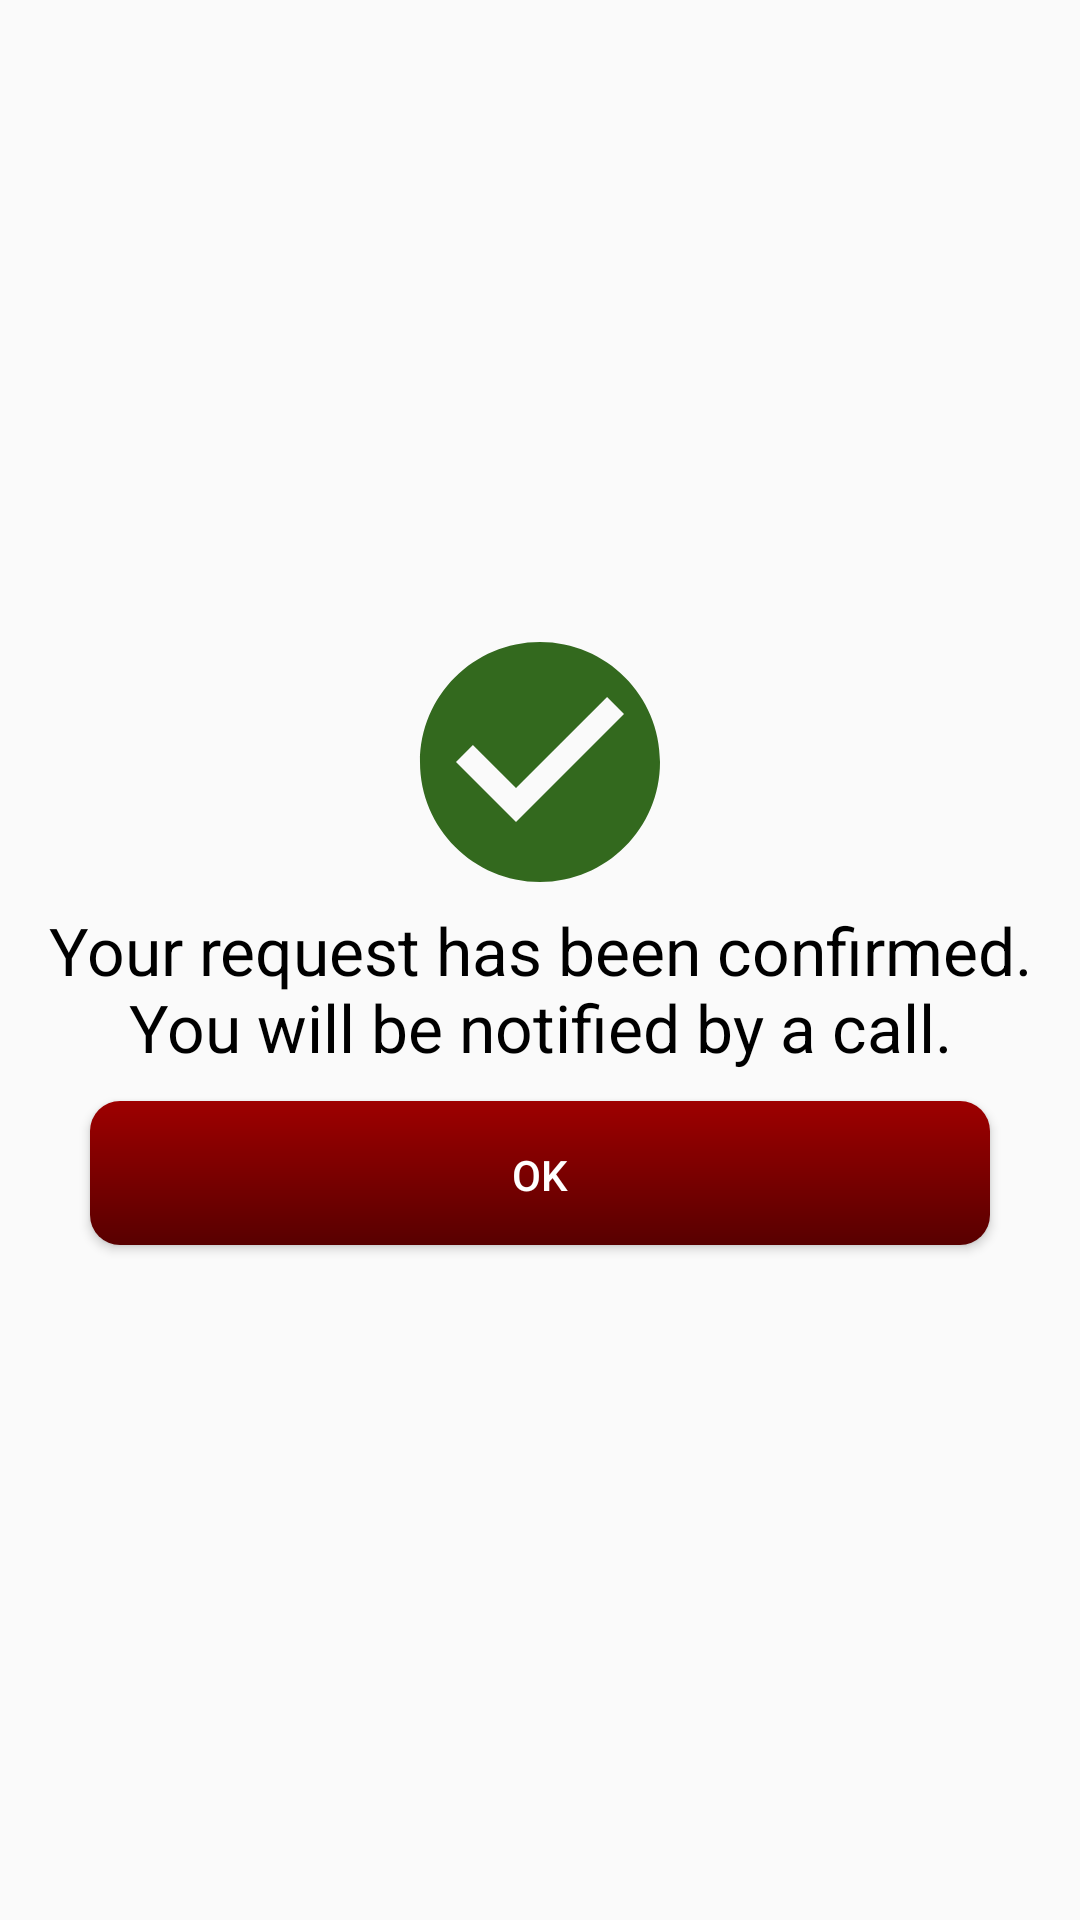

Named icons in this screenshot (1080 x 1920) and their centers, (x=x, y=y):
check: (x=540, y=762)
